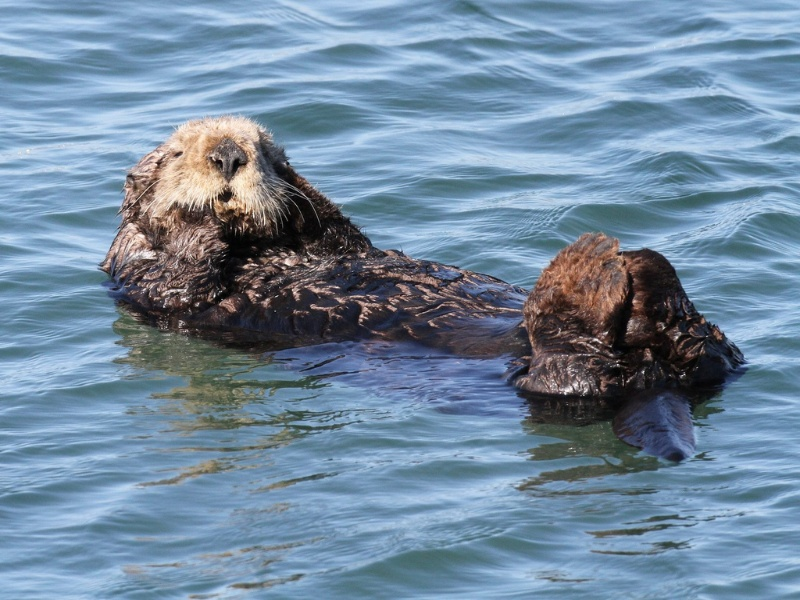minkish: (91, 107, 753, 468)
